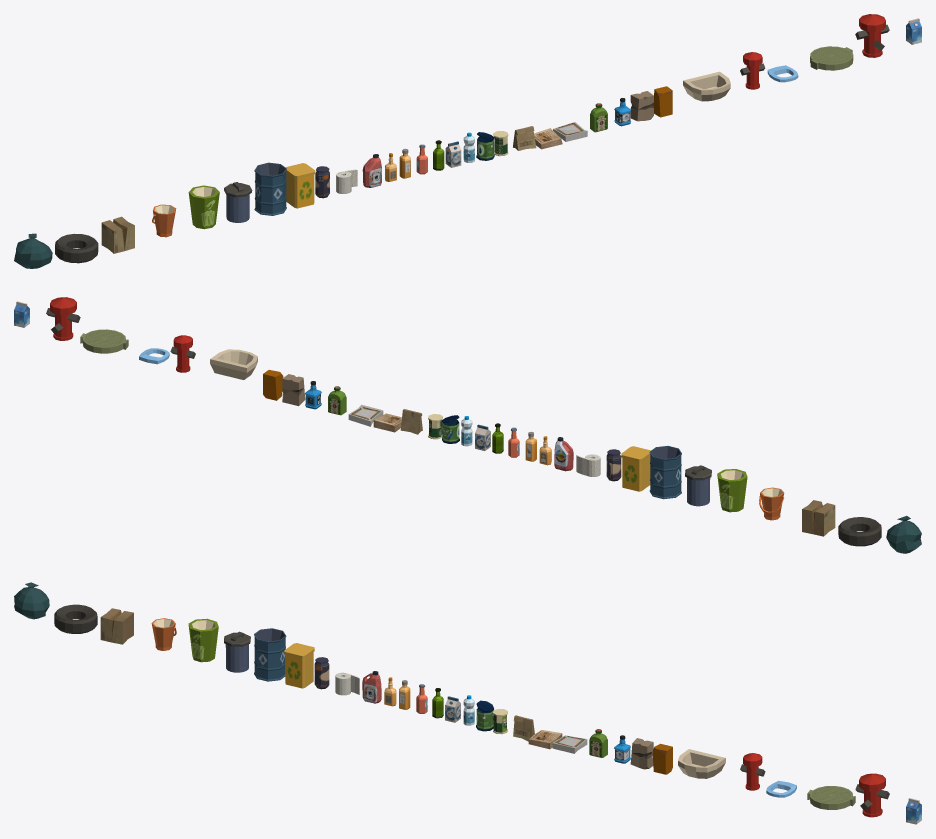
File: GarbageCommon.fbx
The picture shows the model from 3 angles, top to bottom: view 1: azimuth 30°, elevation 25°; view 2: azimuth 150°, elevation 25°; view 3: azimuth 330°, elevation 25°; orthographic projection.
Parts seen in each view (by area): view 1: G17, G16, G19, G23, G31, G22, G33, G21, G18, G28, G26, G30 (+3 smaller); view 2: G17, G16, G31, G19, G23, G22, G33, G28, G21, G18, G20, G26 (+3 smaller); view 3: G17, G16, G19, G23, G31, G22, G33, G21, G28, G18, G20, G30 (+5 smaller).
Part boxes in pixels (x1,y1,x2,y2): G17: (254, 162, 286, 215); G16: (285, 163, 315, 208); G19: (188, 185, 219, 229); G23: (55, 233, 98, 263); G31: (683, 71, 730, 101); G22: (101, 216, 134, 253); G33: (855, 14, 889, 57); G21: (14, 233, 52, 268); G18: (224, 182, 252, 222); G28: (810, 46, 853, 70); G26: (630, 91, 653, 121); G30: (740, 52, 765, 89); G17: (649, 446, 681, 499); G16: (621, 446, 650, 491); G31: (210, 349, 257, 379); G19: (717, 469, 747, 512); G23: (838, 517, 881, 546); G22: (802, 500, 835, 536); G33: (46, 297, 80, 340); G28: (80, 329, 128, 353); G21: (886, 515, 921, 553); G18: (685, 465, 711, 506); G20: (759, 487, 784, 520); G26: (282, 374, 305, 406); G17: (254, 628, 286, 681); G16: (284, 643, 314, 688); G19: (188, 618, 218, 662); G23: (54, 604, 97, 633); G31: (678, 749, 725, 778); G22: (100, 608, 133, 644); G33: (855, 773, 889, 817); G21: (14, 582, 49, 619); G28: (807, 786, 855, 809); G18: (224, 631, 250, 672); G20: (151, 618, 176, 650); G30: (740, 753, 765, 790).
Size of what is drawn, in the model's own units: 244 by 12.52 by 11.67.
